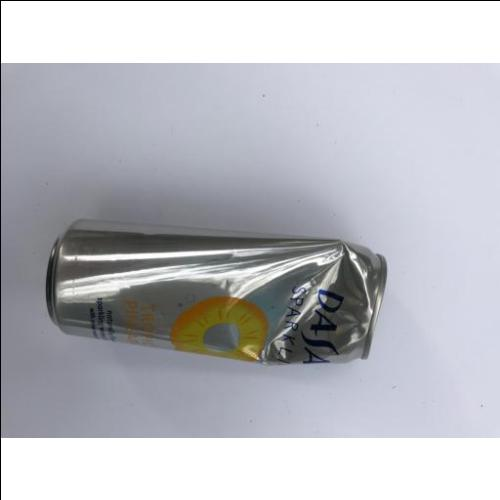metal: (47, 224, 373, 367)
